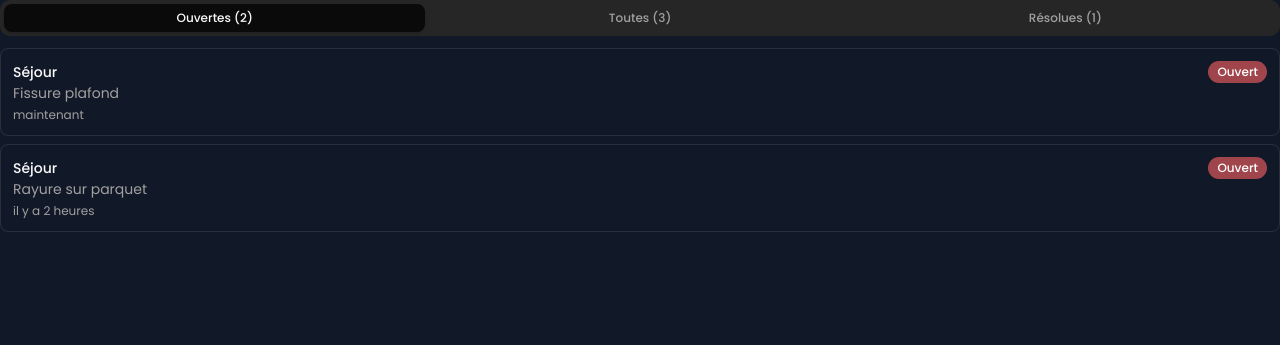
Test: ReservationsList › shows all reservations when "Toutes" tab is clicked
Expected: the text "Fissure plafond" is shown, [13, 83, 119, 103]
Click the tab "Toutes (3)".
click(640, 18)  # box [429, 4, 851, 32]
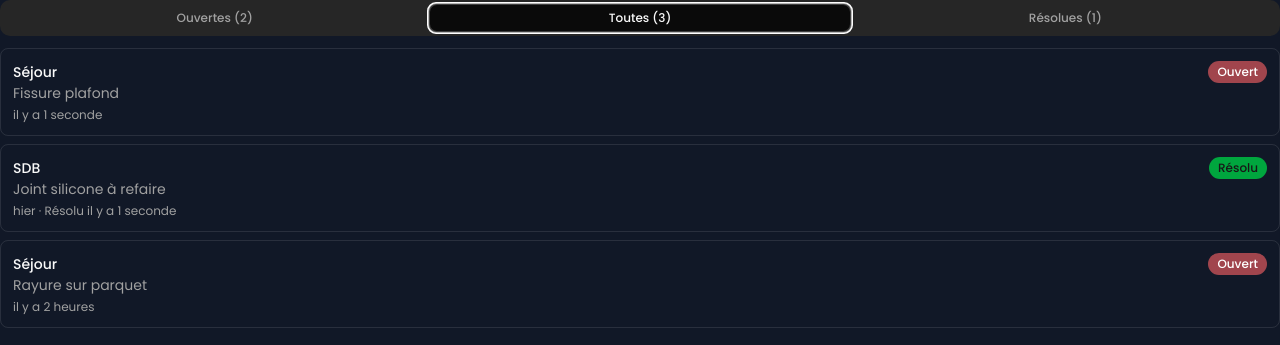
Expected: the text "Fissure plafond" is shown, [13, 83, 119, 103]
Expected: the text "Joint silicone à refaire" is shown, [13, 179, 166, 199]
